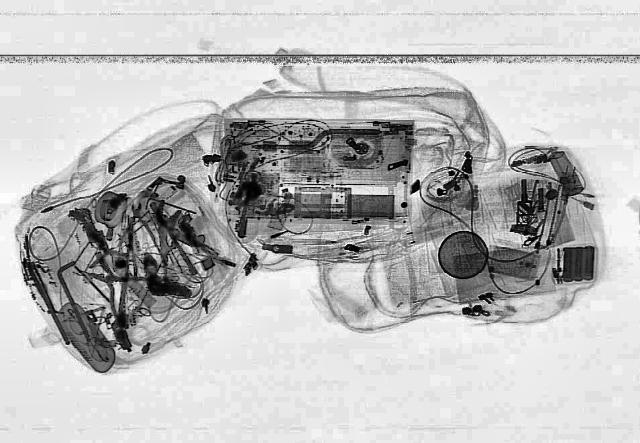Pliers: (108, 201, 168, 274)
